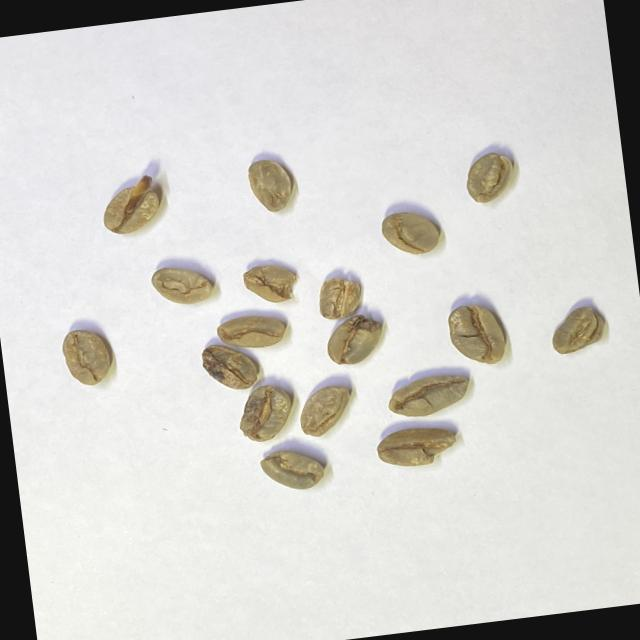bad: (443, 298, 509, 369), (98, 170, 166, 238), (386, 370, 474, 420), (374, 421, 459, 471), (233, 381, 297, 446), (58, 324, 114, 390), (322, 311, 386, 368), (258, 444, 327, 496), (198, 338, 260, 395), (295, 382, 356, 439), (378, 207, 442, 260), (462, 148, 519, 206), (148, 260, 214, 310), (547, 304, 609, 356), (214, 311, 288, 354), (245, 154, 295, 216), (240, 259, 300, 308), (315, 274, 365, 322)
